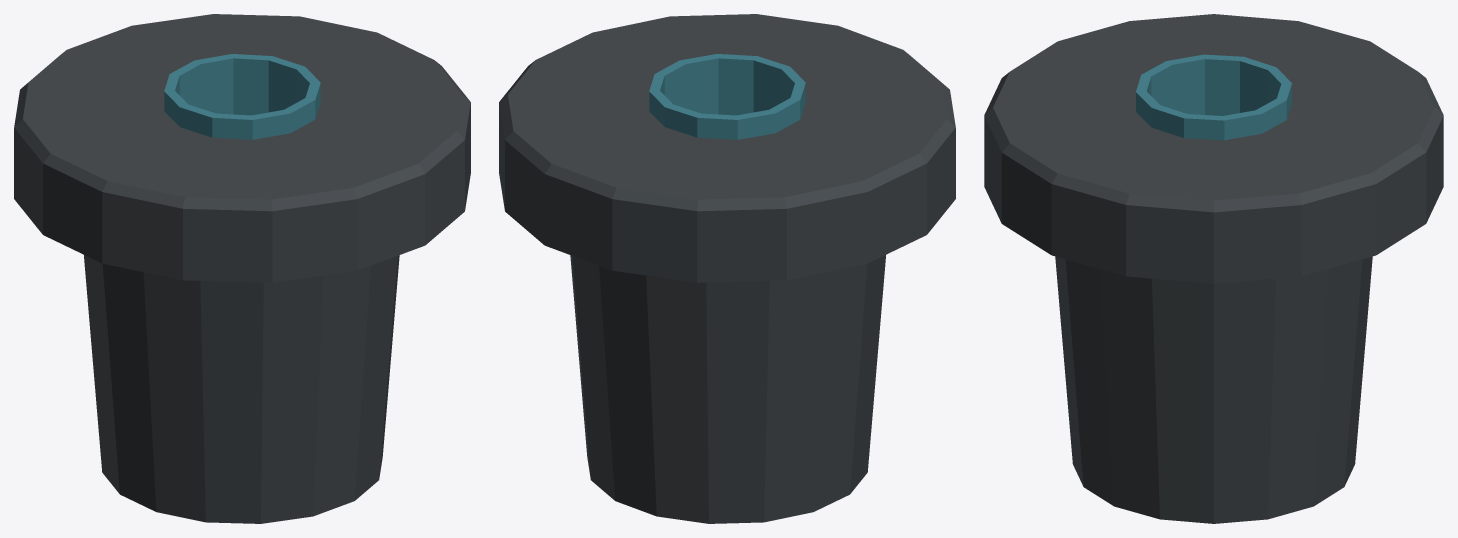
The model's file is VLAB_stopper.fbx.
3 renders of one model, left to right at view 1: azimuth 30°, elevation 25°; view 2: azimuth 150°, elevation 25°; view 3: azimuth 270°, elevation 25°, orthographic.
Visible parts, largest first — view 1: VLAB_stopper_Stopper_VIS, VLAB_stopper_Port1_VIS; view 2: VLAB_stopper_Stopper_VIS, VLAB_stopper_Port1_VIS; view 3: VLAB_stopper_Stopper_VIS, VLAB_stopper_Port1_VIS.
Boxes of the visible parts, x1=… form: VLAB_stopper_Stopper_VIS: x1=14, y1=14, x2=470, y2=523; VLAB_stopper_Port1_VIS: x1=164, y1=54, x2=320, y2=139; VLAB_stopper_Stopper_VIS: x1=499, y1=14, x2=955, y2=523; VLAB_stopper_Port1_VIS: x1=649, y1=54, x2=805, y2=139; VLAB_stopper_Stopper_VIS: x1=984, y1=14, x2=1443, y2=523; VLAB_stopper_Port1_VIS: x1=1136, y1=54, x2=1291, y2=140.
Size of the model in its own units: 0.021 by 0.019 by 0.021.
